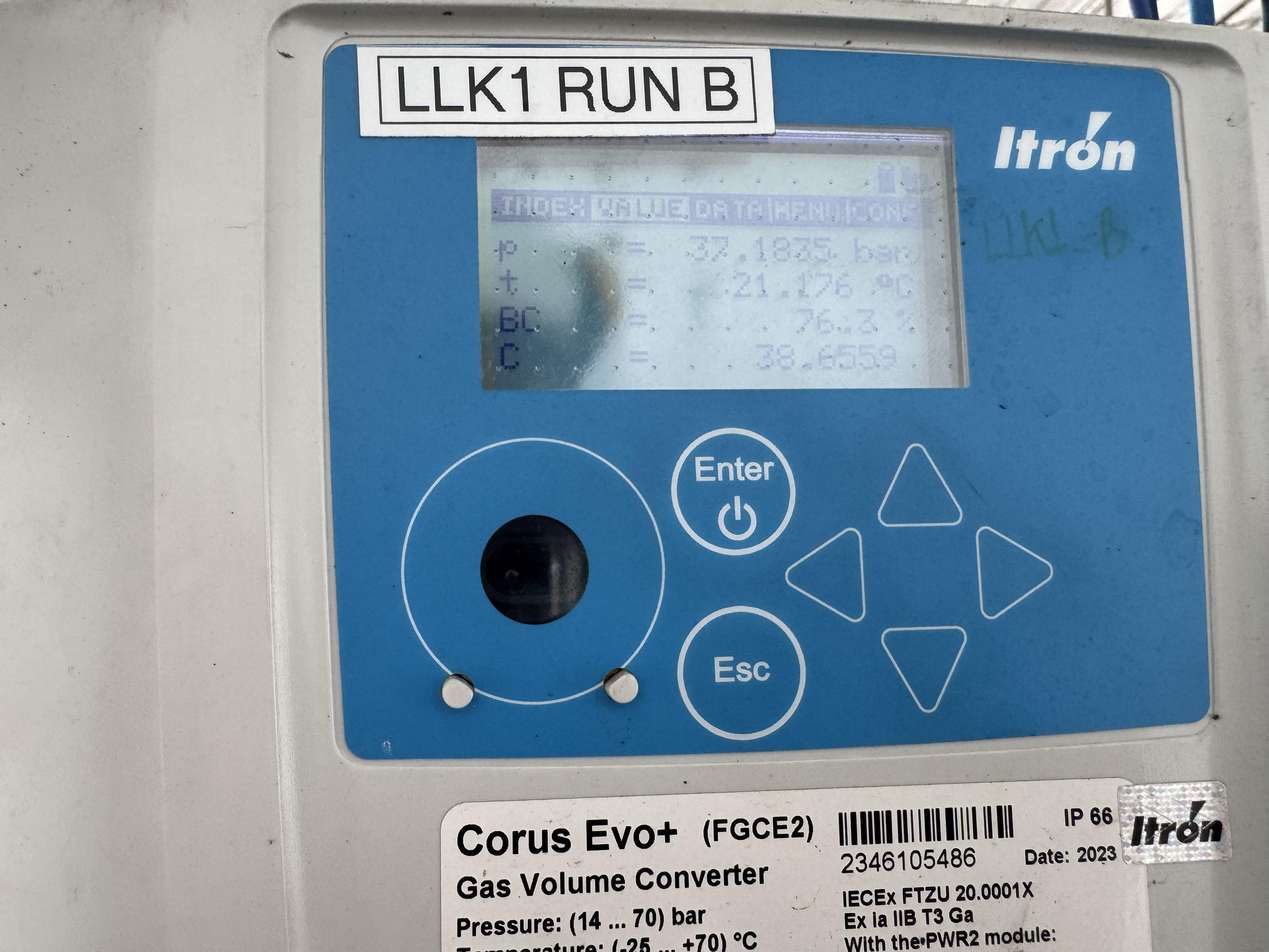digital_screen: (476, 123, 970, 391)
